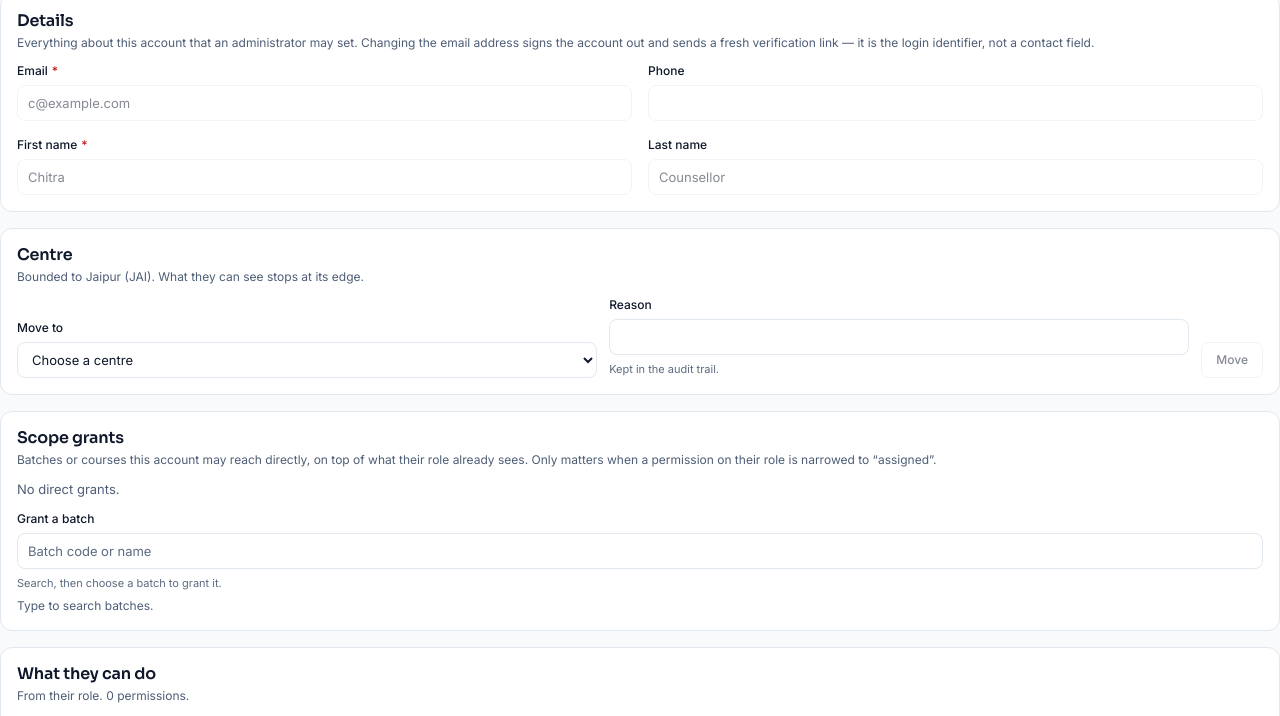
Test: Centre card › confirms the move, and keeps the choice and reason when it fails
The image size is (1280, 716).
(page scrolled)
Select "Pune (PUN)" in the dropdown labelled "Move to" at (307,360), box [17, 342, 597, 378]
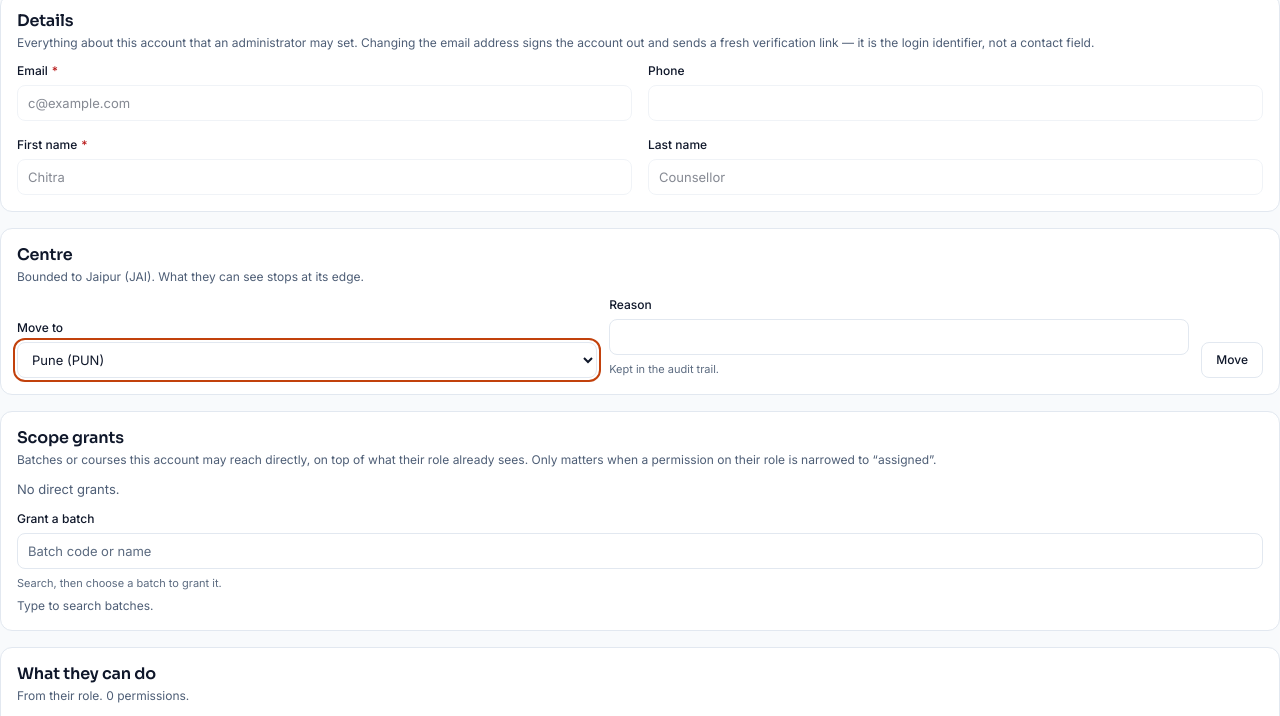
Type "Relocated." into the field labelled "Reason".
click(899, 337); type("Relocated.")  # box [609, 319, 1189, 355]
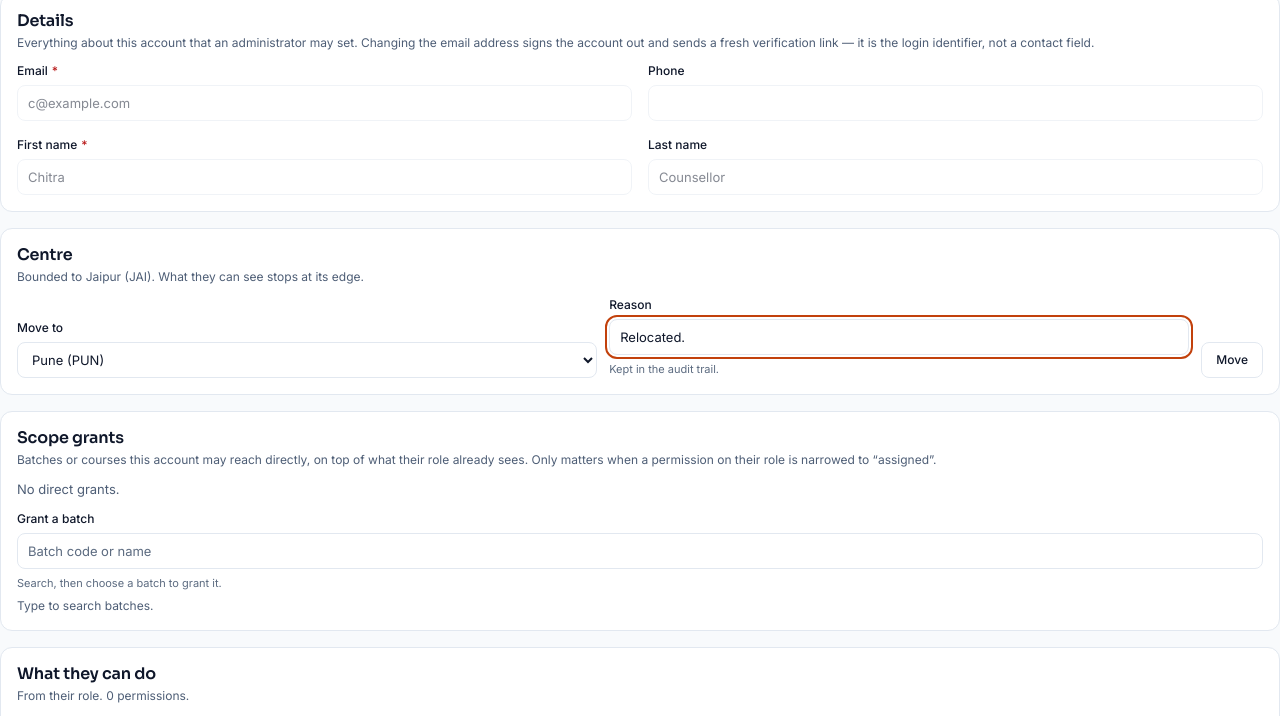
Click the button "Move".
click(1232, 360)  # box [1201, 342, 1263, 378]
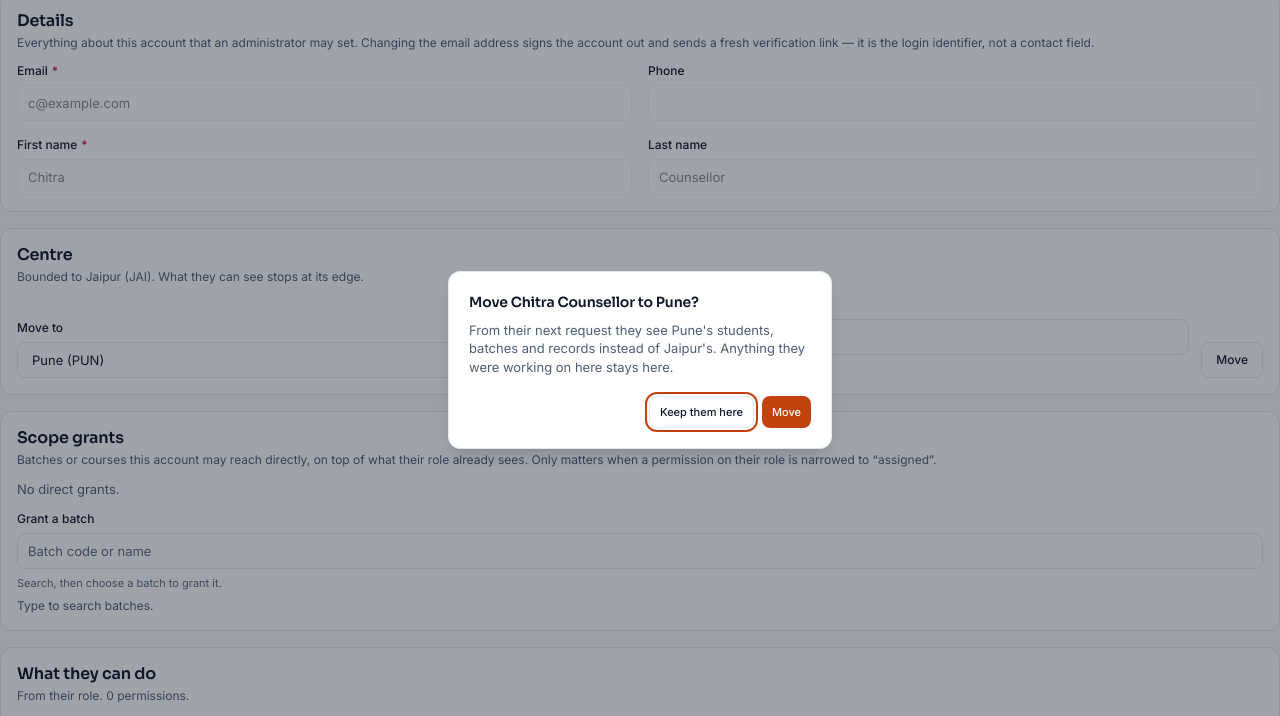
Result: the dialog shows "Move Chitra Counsellor to Pune?" at [469, 293, 699, 311]
Click the button "Move".
click(786, 412)  # box [762, 396, 811, 428]
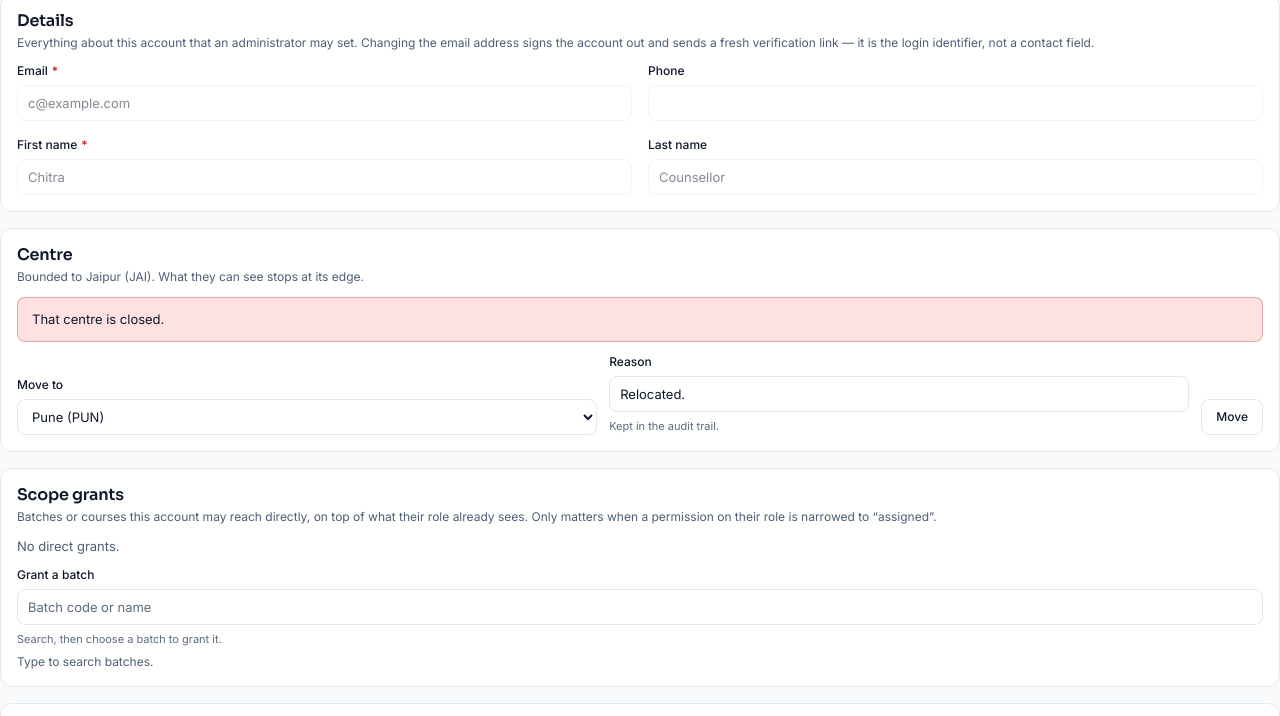
Result: the text "That centre is closed." is shown at [17, 297, 1263, 342]
